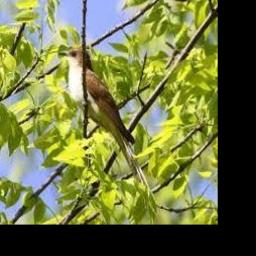Cuckoo: (58, 46, 151, 193)
